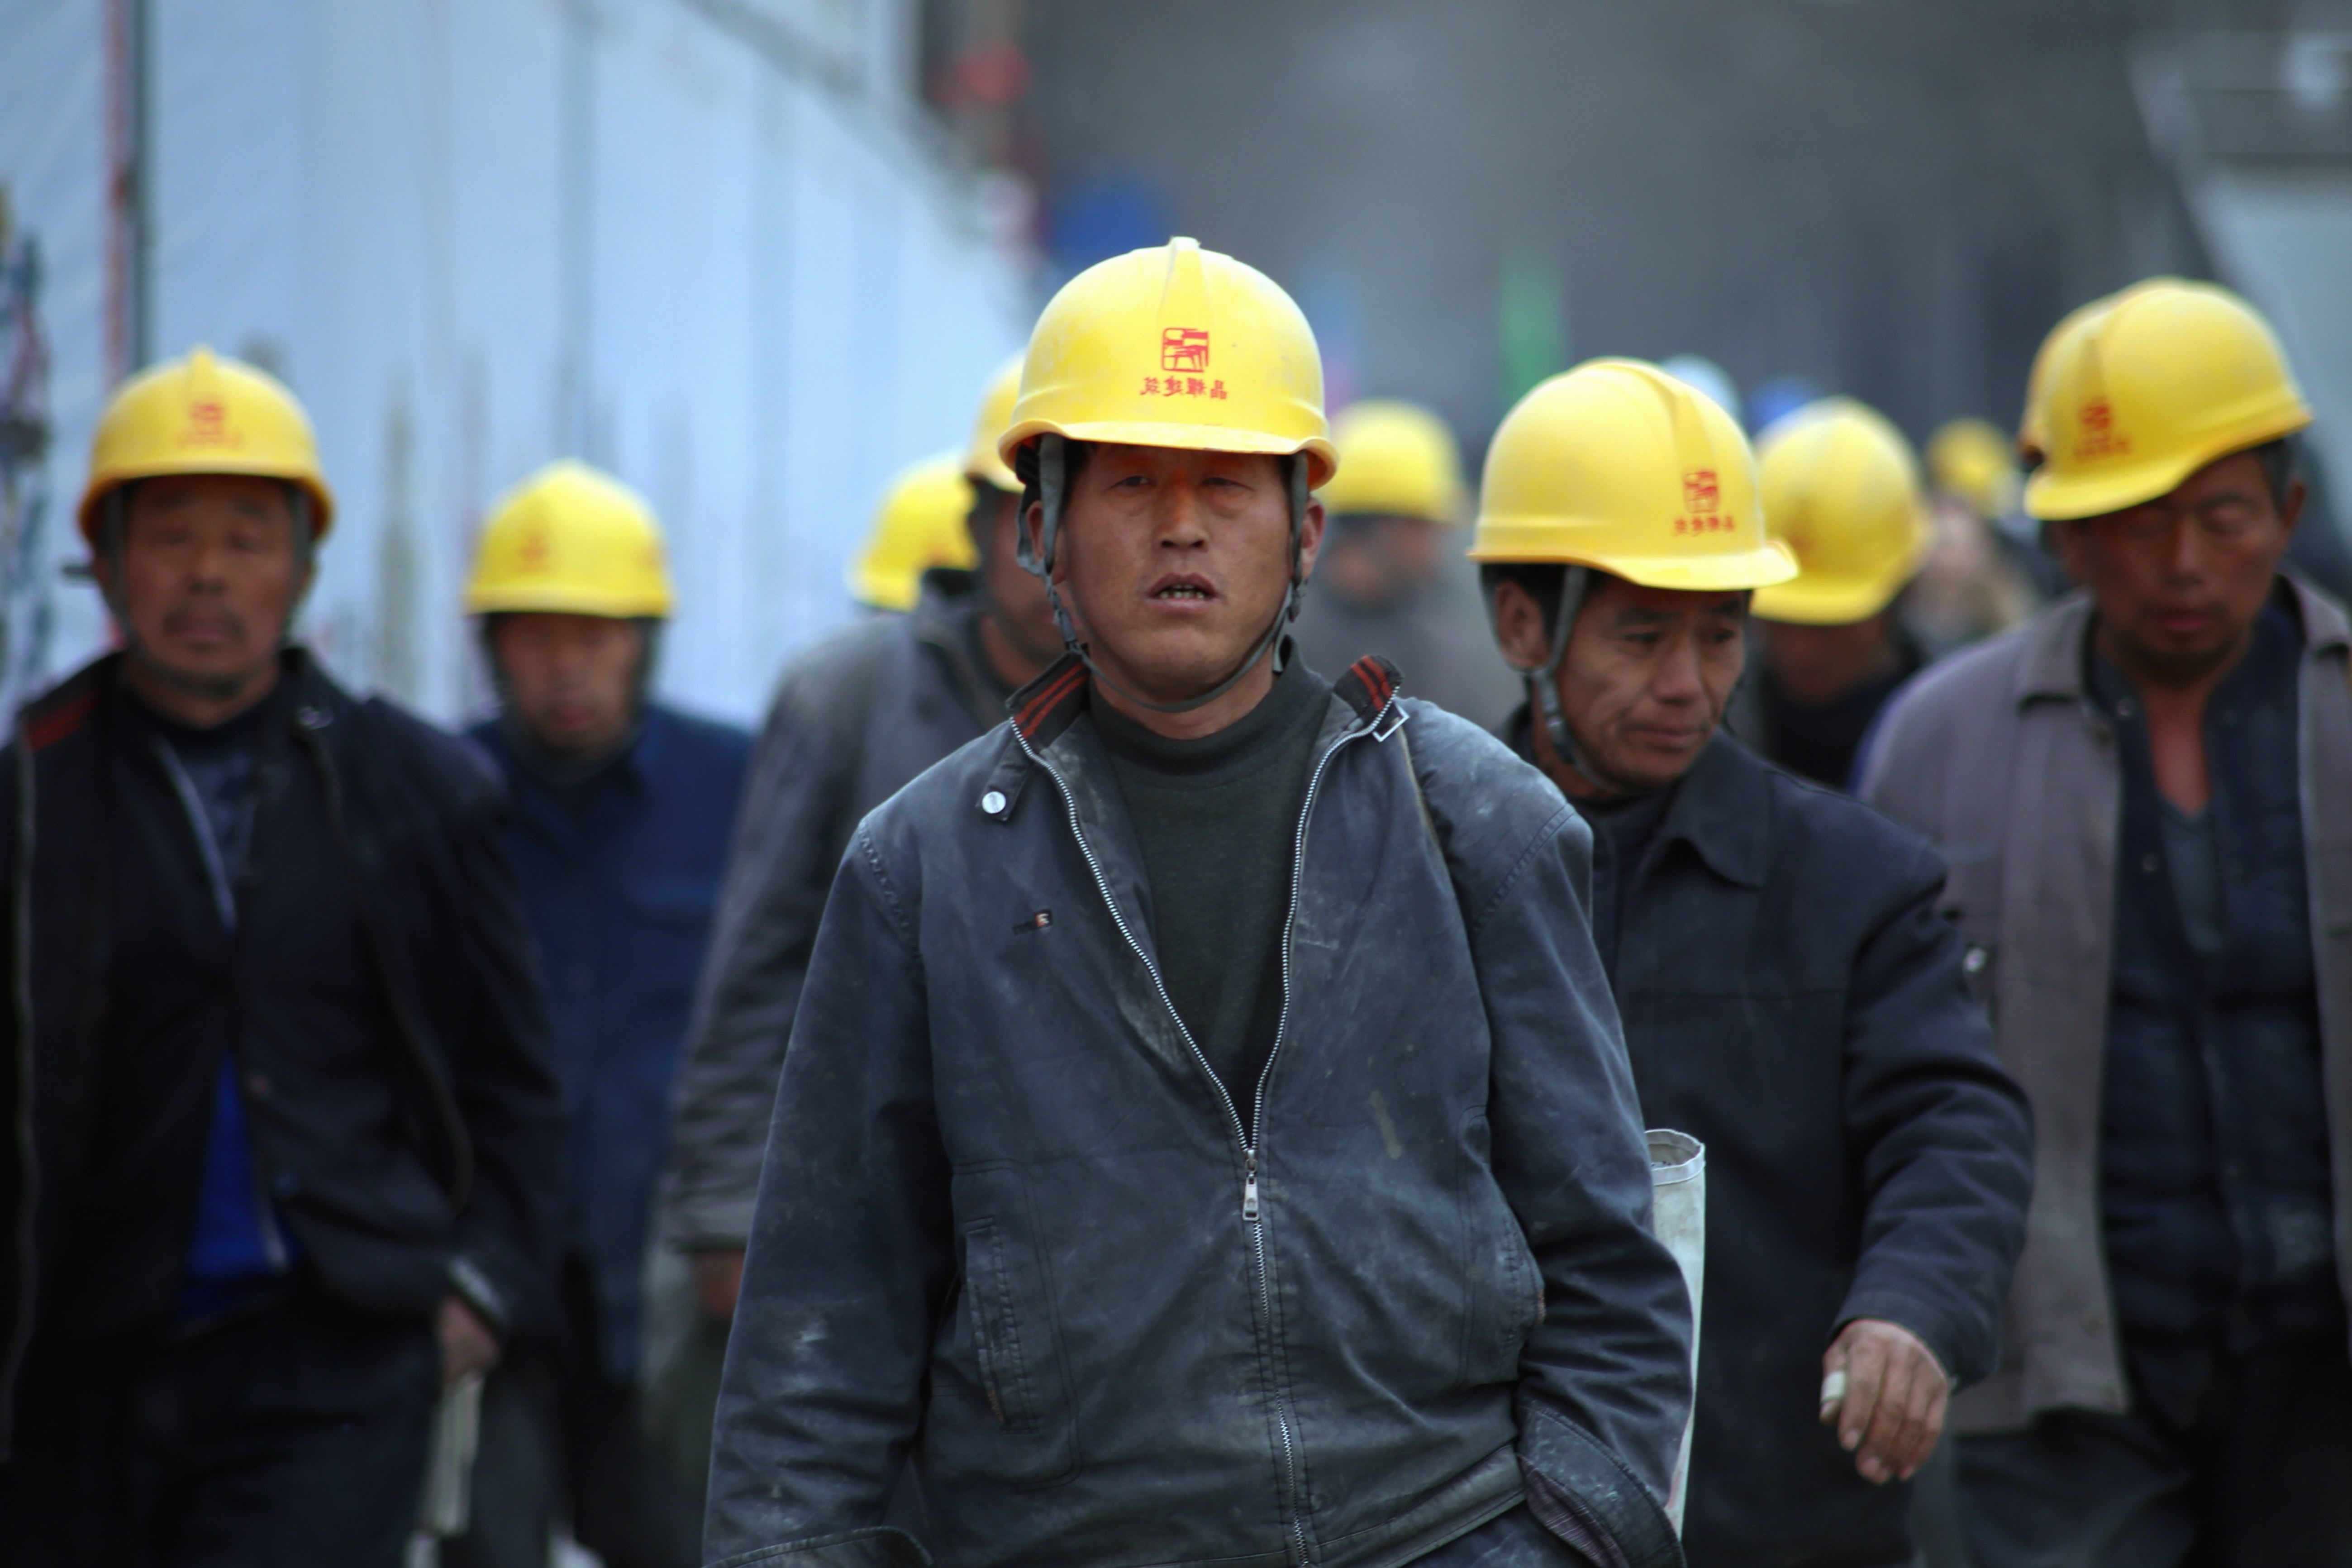Person_wearing_helmet: (1451, 345, 1801, 653), (1014, 222, 1337, 526), (2000, 284, 2314, 578), (52, 326, 355, 573)
